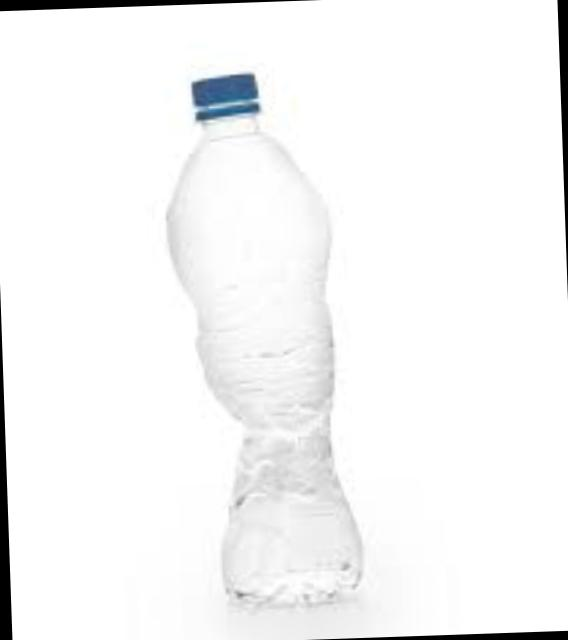plastic: (164, 70, 356, 599)
